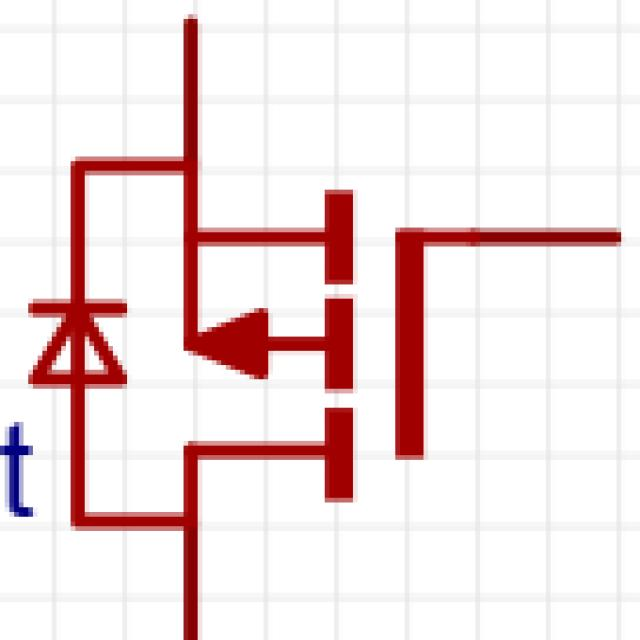pmos: (22, 6, 640, 640)
